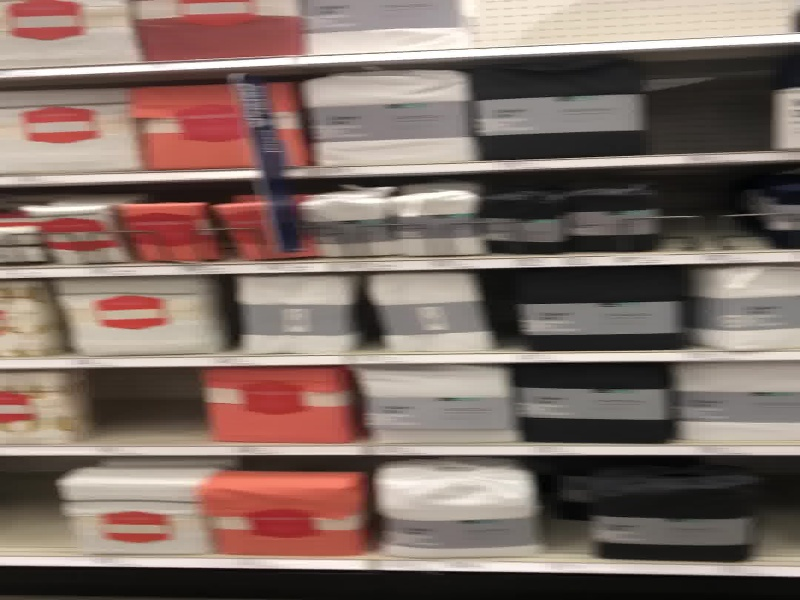void: (474, 1, 795, 47), (647, 49, 774, 158), (83, 359, 205, 447), (661, 159, 766, 253), (1, 453, 59, 559)
